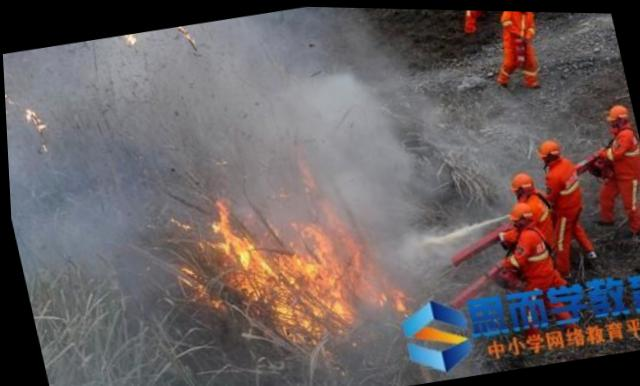fire: (163, 144, 413, 369)
